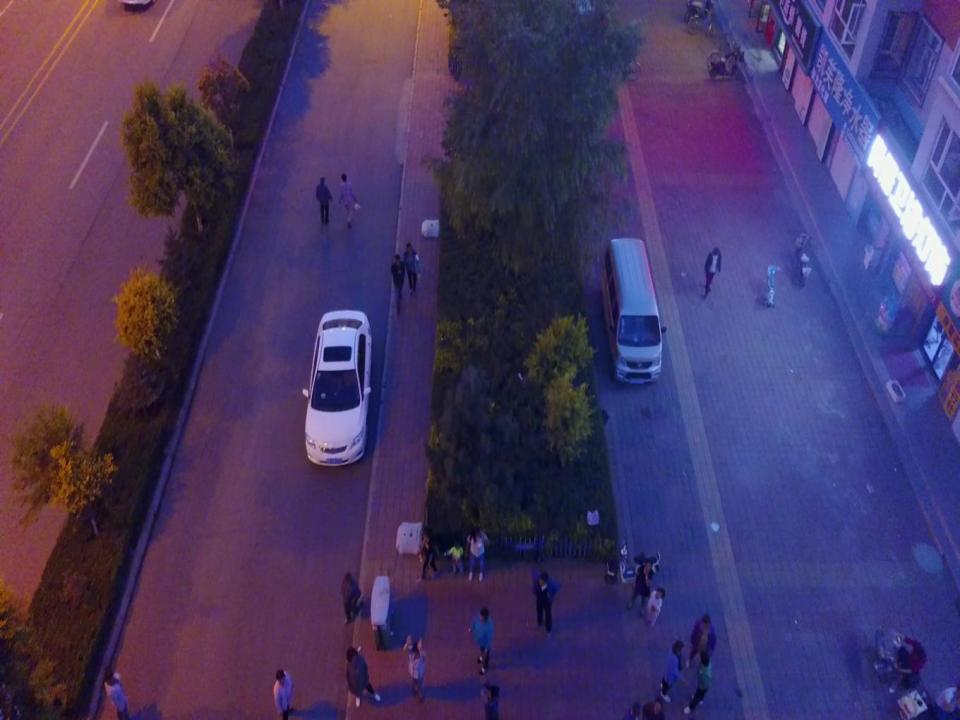car: (301, 308, 372, 467)
van: (598, 236, 667, 385)
